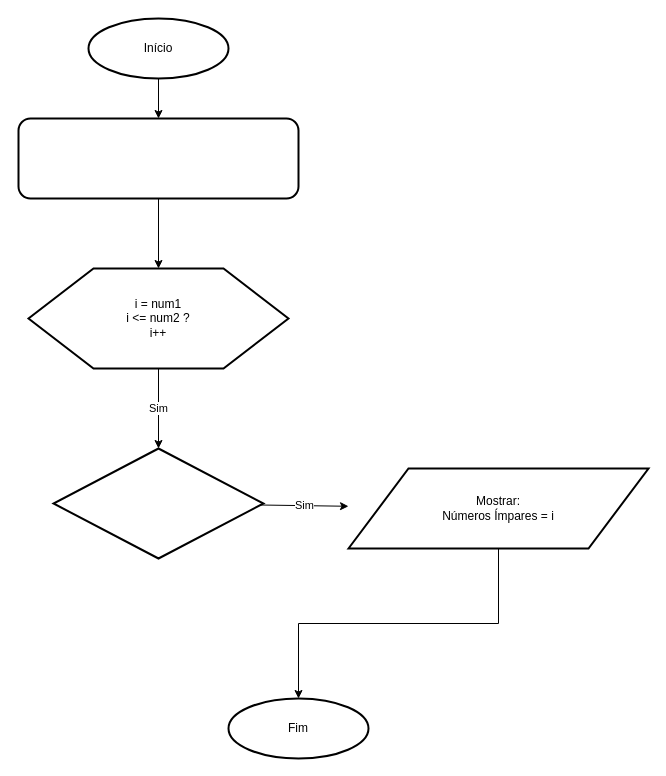
This 666x776 diagram has some shape labels left out. The box of each missing label's shape, as (x1, y1, x2, y2) in pixels:
i % 2 != 0 ?: (52, 447, 264, 559)
num1 = 100 num2 = 200: (17, 117, 299, 199)
